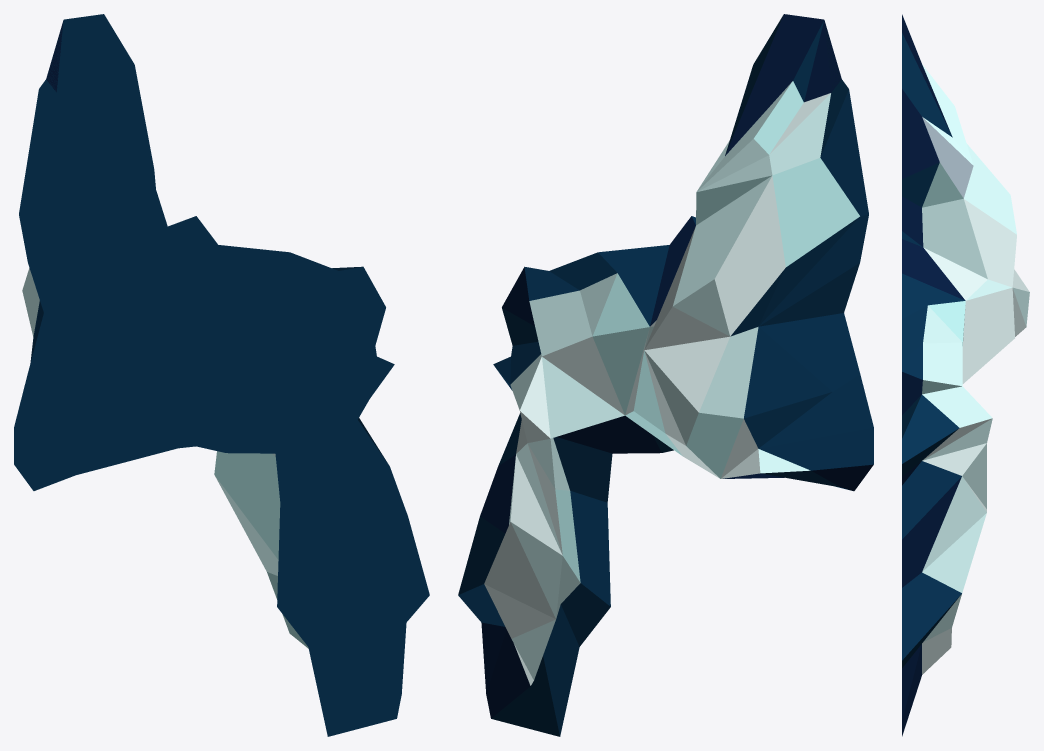
File: winter_middle_mountain_1.fbx
3 renders of one model, left to right at view 1: azimuth 30°, elevation 25°; view 2: azimuth 150°, elevation 25°; view 3: azimuth 270°, elevation 25°, orthographic. The views are drawn at different scales.
Visible parts, largest first — view 1: winter_middle_mountain_1; view 2: winter_middle_mountain_1; view 3: winter_middle_mountain_1.
Boxes of the visible parts, x1,y1,x2,y2 form: winter_middle_mountain_1: (14, 14, 429, 736); winter_middle_mountain_1: (458, 14, 873, 736); winter_middle_mountain_1: (902, 14, 1029, 736).
Size of the model in its own units: 586 by 1054 by 204.
